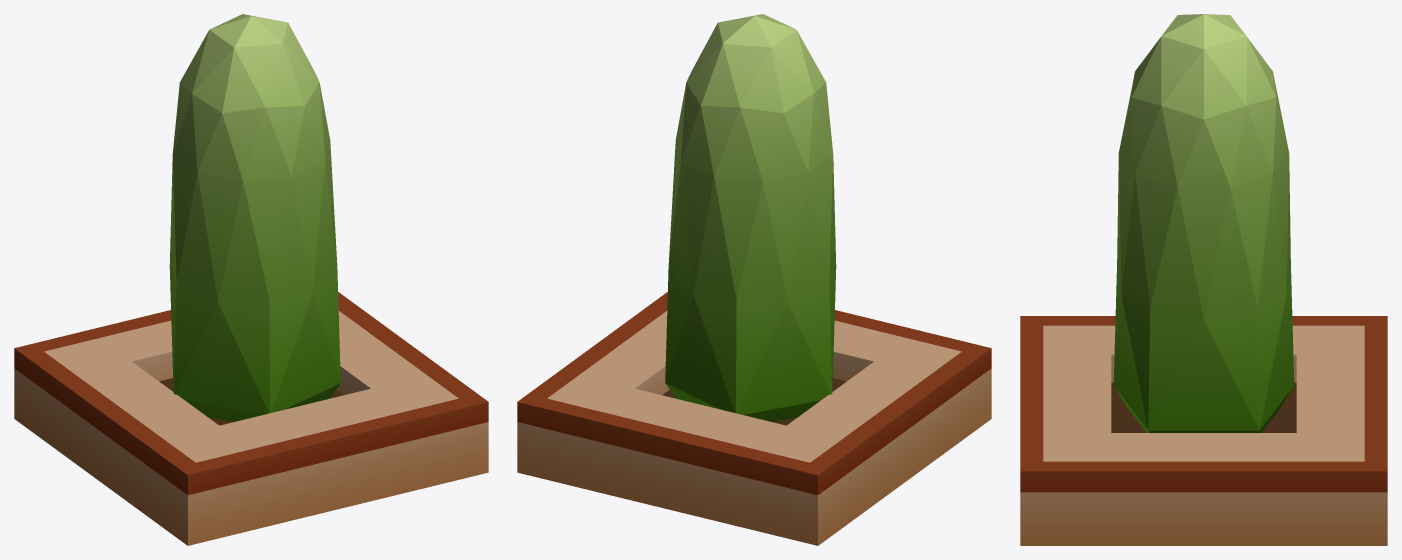
File: Square_Holder_Planted.fbx
3 views of the same model, side by side, from view 1: azimuth 30°, elevation 25°; view 2: azimuth 150°, elevation 25°; view 3: azimuth 270°, elevation 25° (orthographic). The views are drawn at different scales.
Visible parts, largest first — view 1: Square_Holder_Planted; view 2: Square_Holder_Planted; view 3: Square_Holder_Planted.
Part boxes in pixels (bbox=[...]): Square_Holder_Planted: bbox=[14, 14, 488, 545]; Square_Holder_Planted: bbox=[517, 14, 991, 545]; Square_Holder_Planted: bbox=[1020, 14, 1387, 545].
Size of the model in its own units: 431 by 588 by 431.
